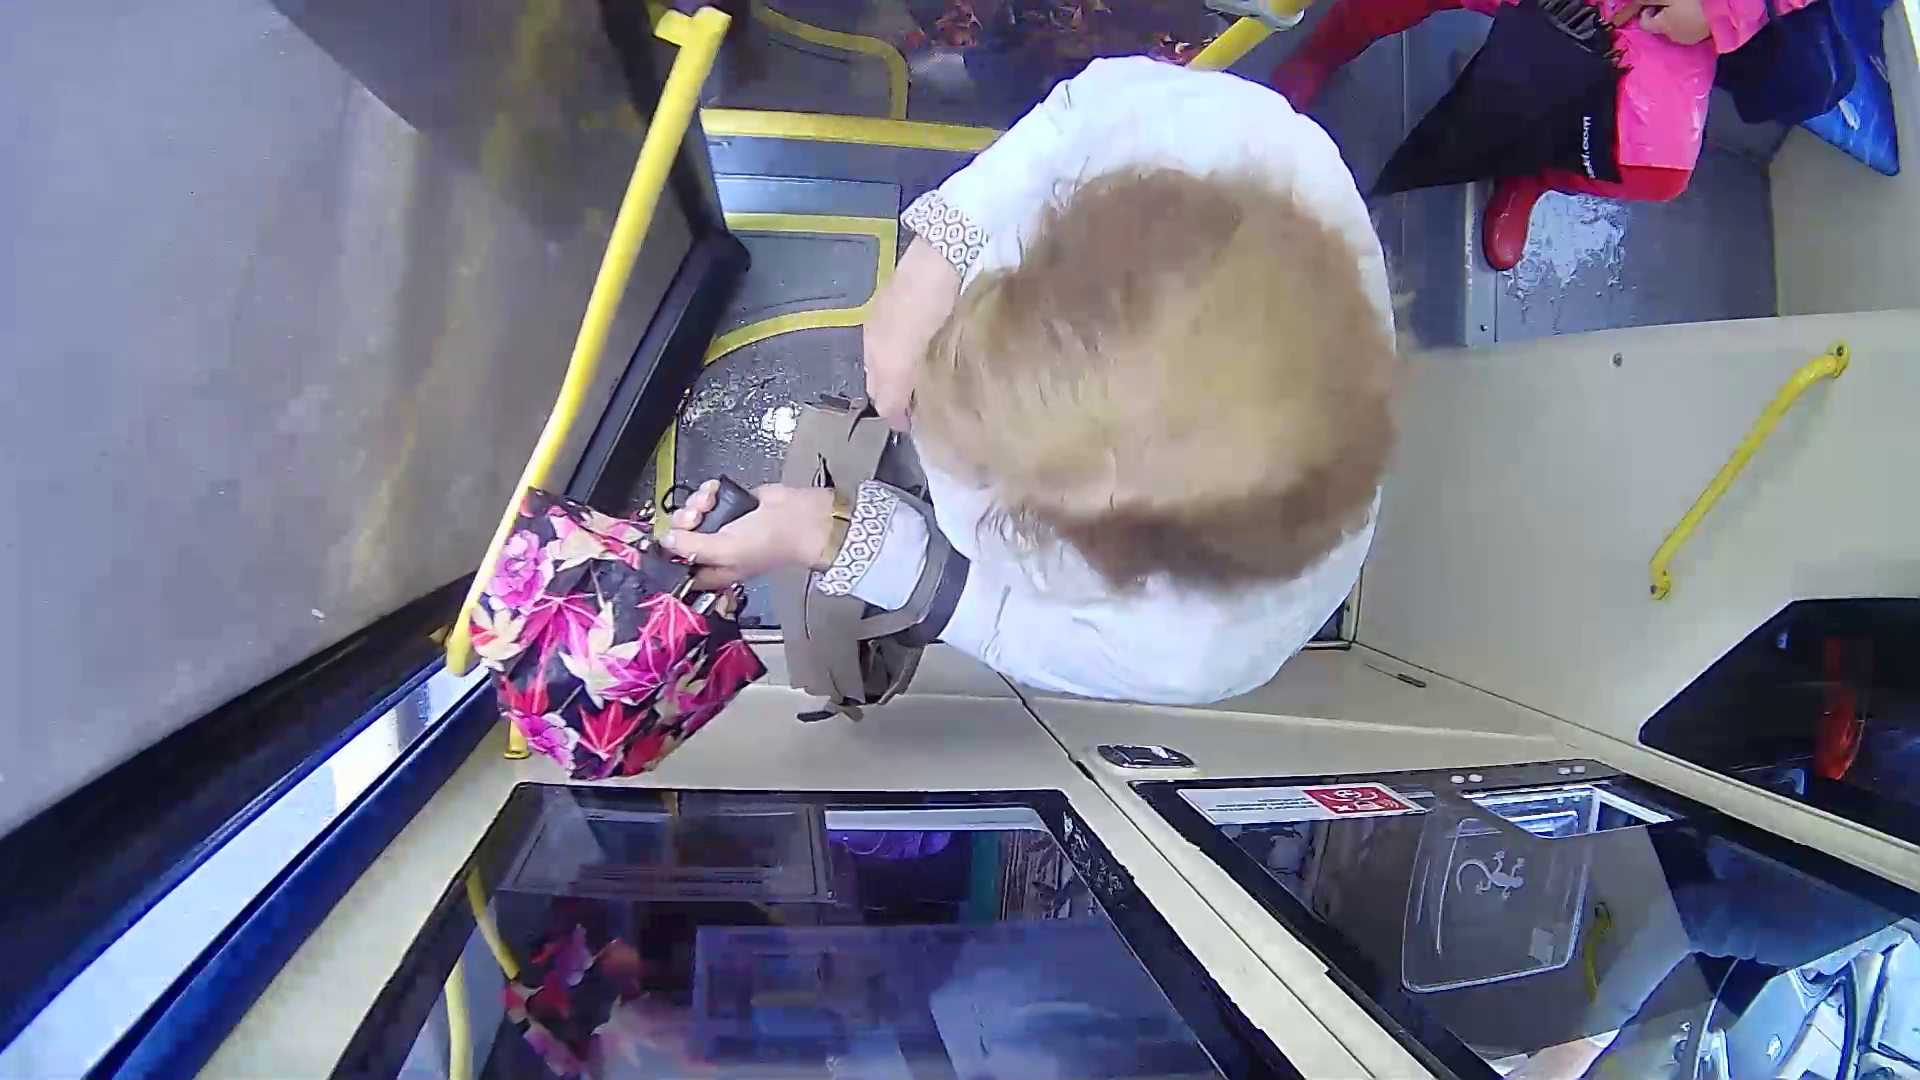person: (496, 105, 1491, 727)
